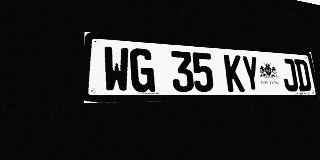3: (171, 51, 194, 92)
5: (192, 52, 214, 92)
D: (294, 59, 312, 91)
G: (130, 48, 155, 92)
J: (280, 58, 299, 91)
K: (224, 54, 245, 92)
W: (103, 46, 130, 92)
Y: (241, 55, 261, 92)
